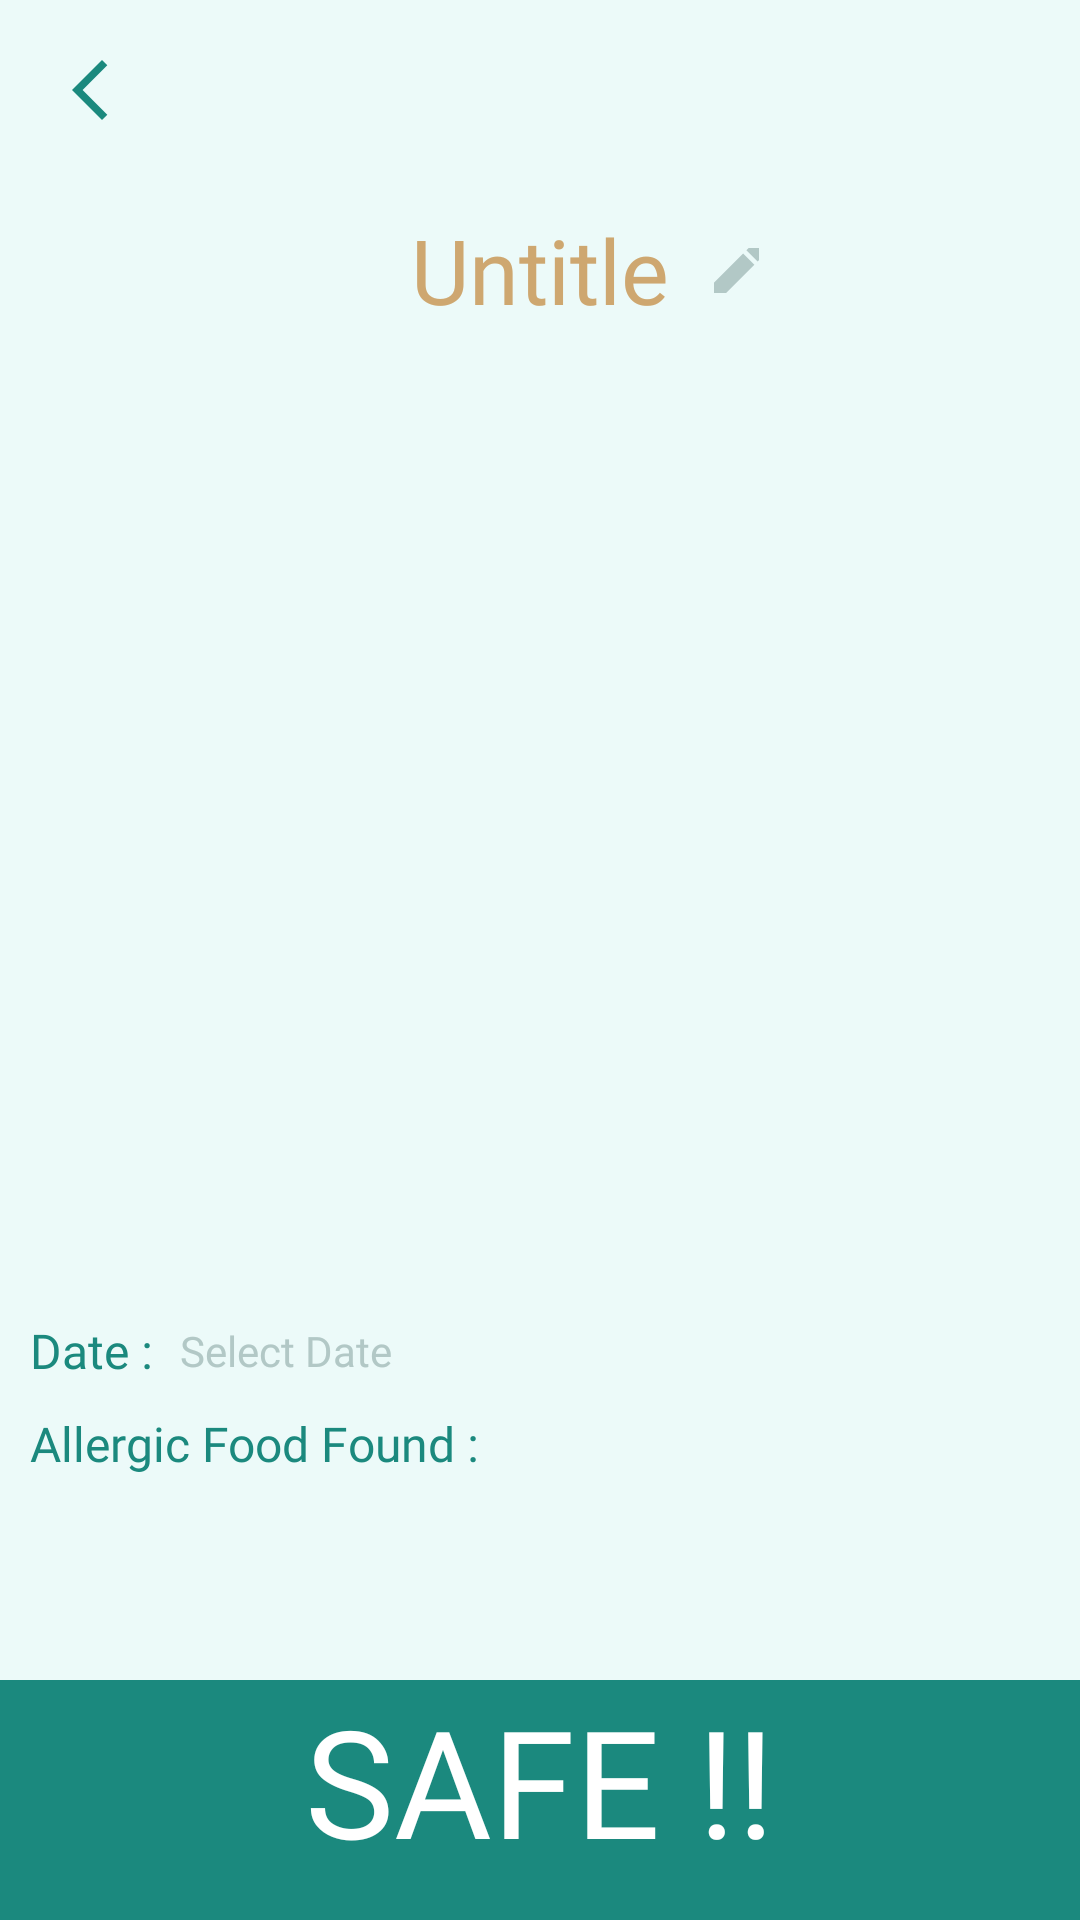

Where to tap for icons on this 1080px×1920px app screen, as [x,y]:
arrow: [89,90]
edit: [736,270]
